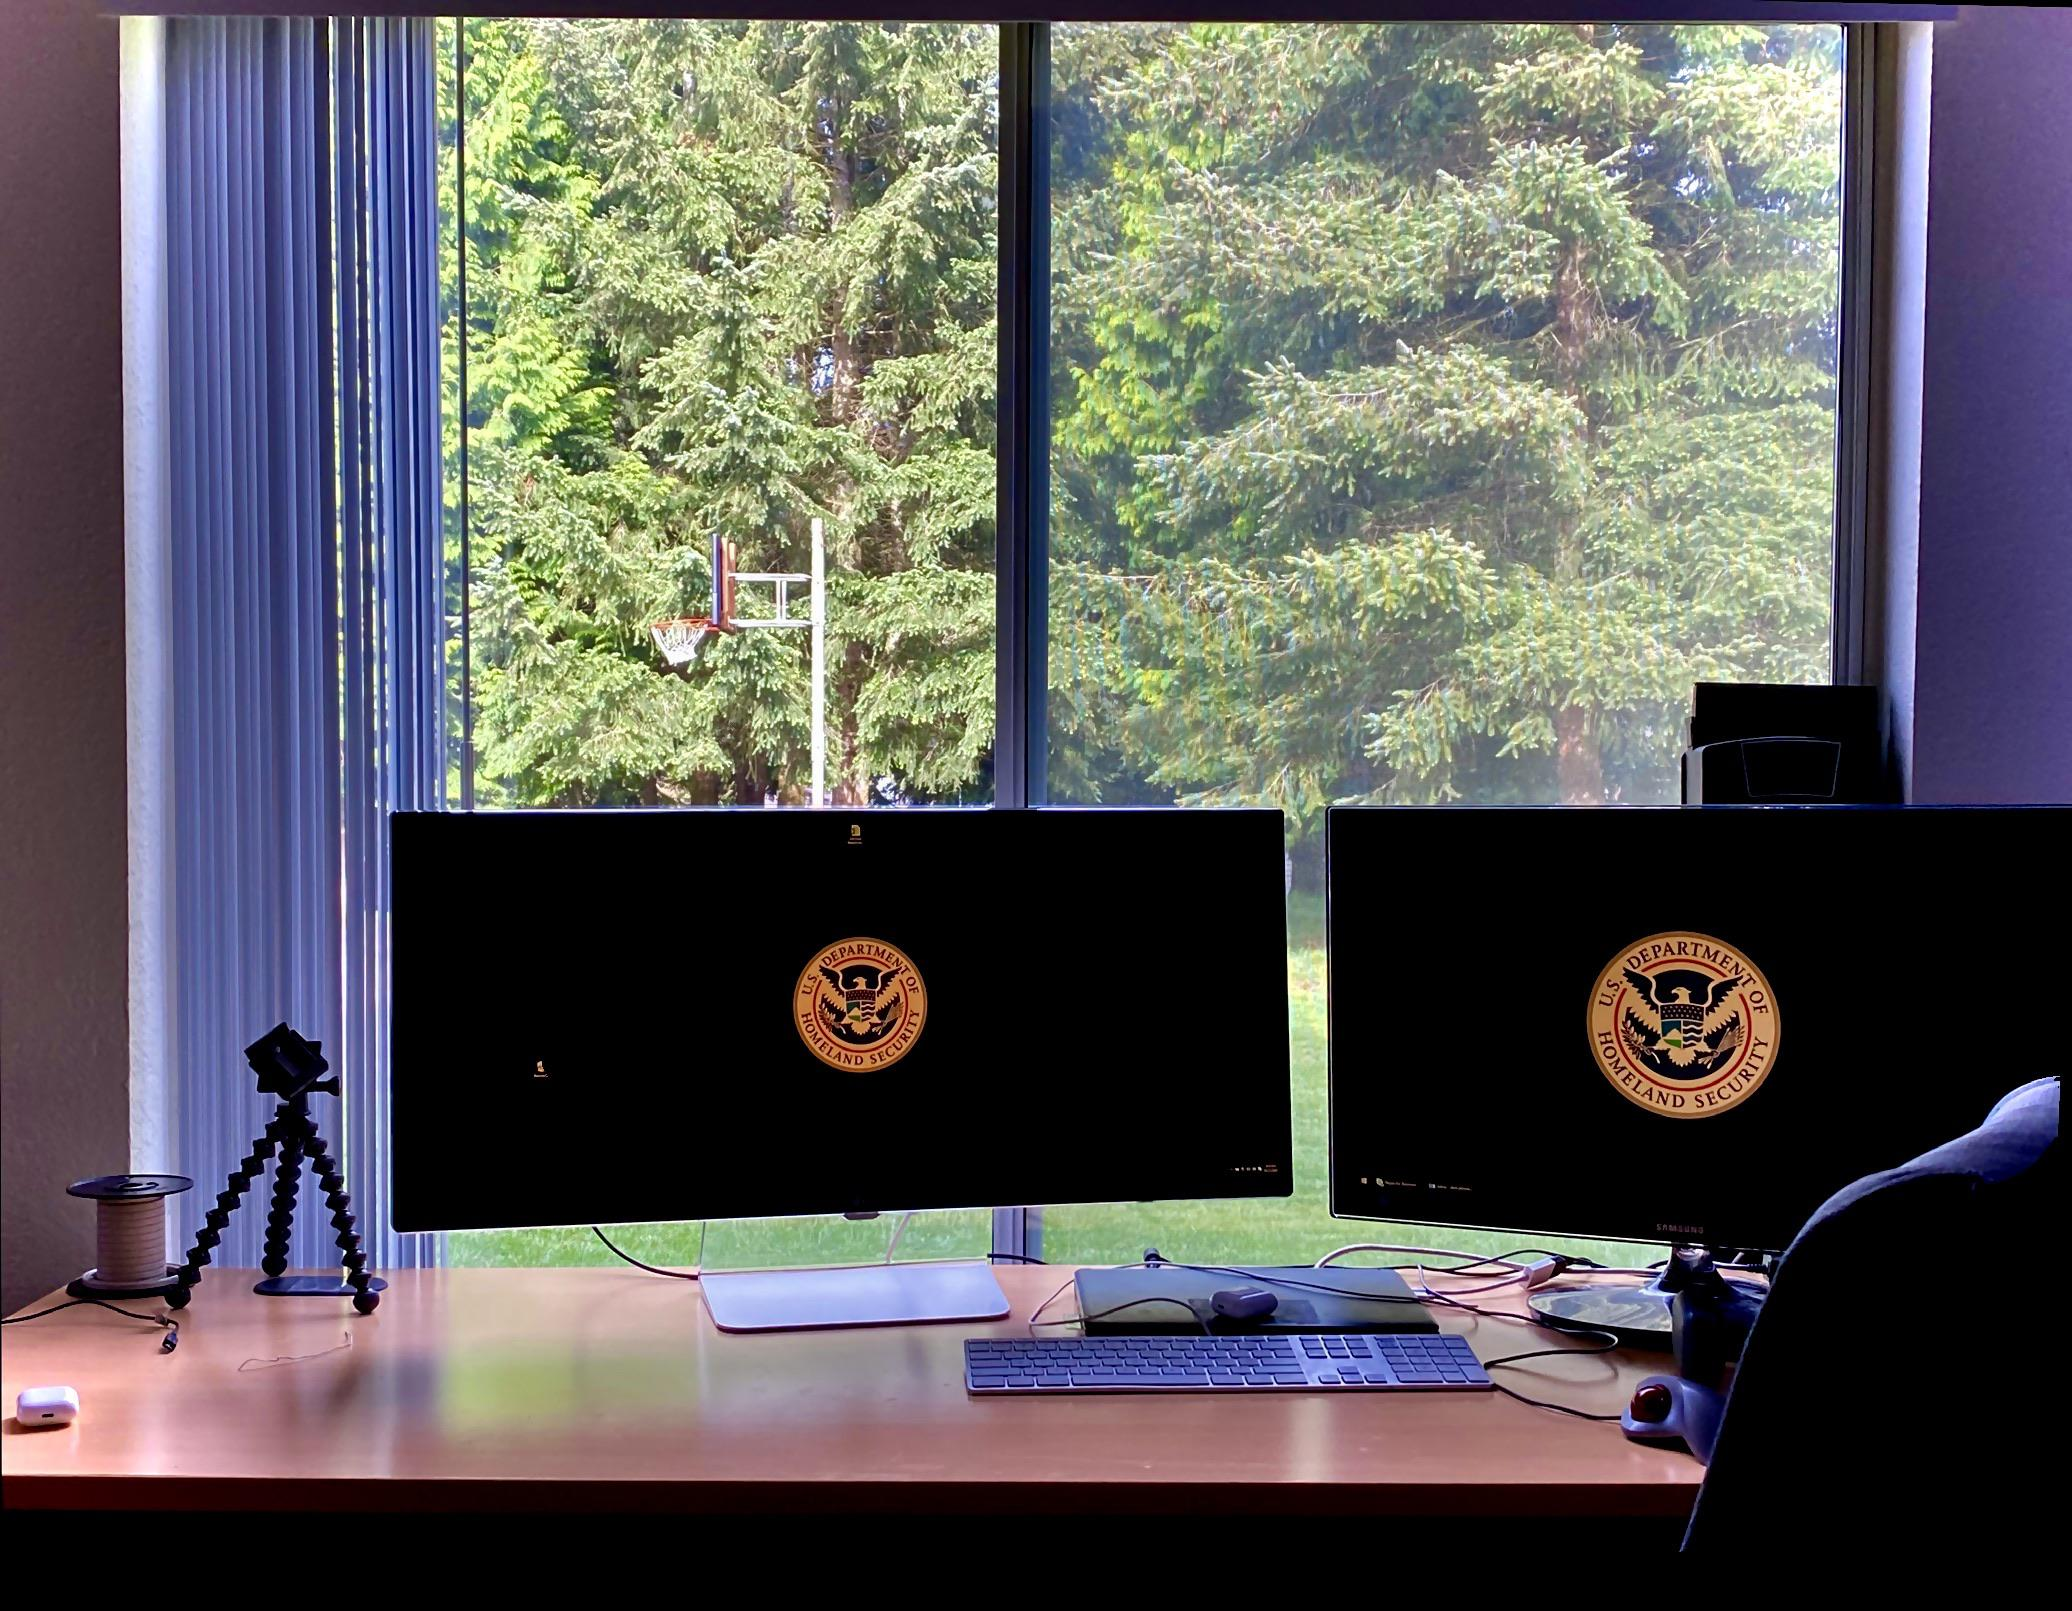Airpods (Apple): (13, 1386, 77, 1431), (1209, 1286, 1278, 1320)
Chair (Generic): (1673, 1056, 2072, 1611)
Desk (Generic): (2, 1268, 2072, 1611)
Keyboard (Generic): (964, 1334, 1498, 1397)
Laptop (Windows): (1075, 1270, 1440, 1334)
Monitor (Landscape): (385, 807, 1293, 1239), (1325, 800, 2072, 1254)
Mouse (Ergonomic): (1620, 1376, 1727, 1466)
